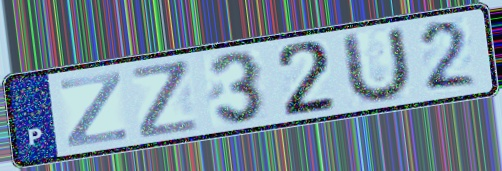2: (276, 39, 340, 120), (418, 17, 480, 99)
3: (205, 48, 268, 128)
U: (341, 23, 414, 108)
Z: (128, 57, 203, 141), (58, 68, 130, 150)
